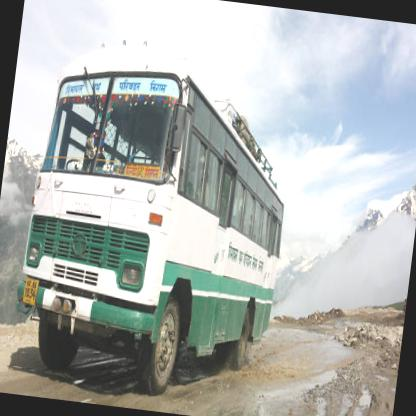bus: (9, 71, 313, 415)
